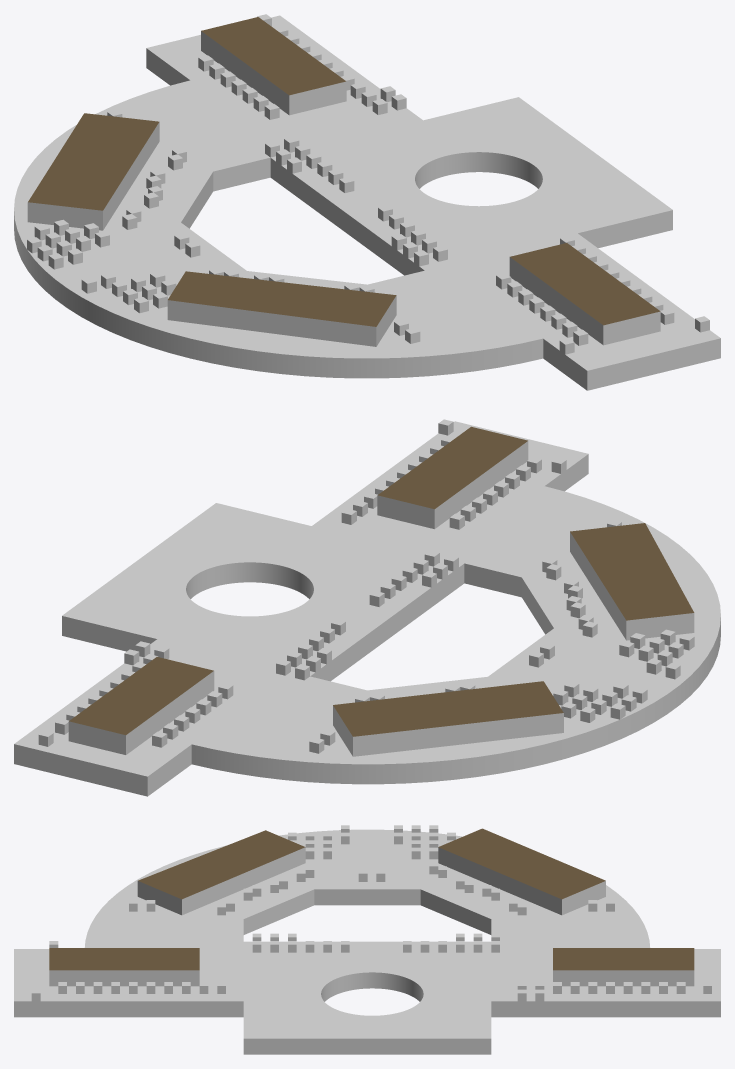
Rendered from pf_four.obj.
The picture shows the model from 3 angles, top to bottom: view 1: azimuth 30°, elevation 25°; view 2: azimuth 150°, elevation 25°; view 3: azimuth 270°, elevation 25°; orthographic projection. The views are drawn at different scales.
Parts seen in each view (by area): view 1: ____27; view 2: ____27; view 3: ____27.
Boxes of the visible parts, <box> form: ____27: <box>14,14,720,390</box>; ____27: <box>14,419,720,796</box>; ____27: <box>14,825,720,1054</box>.
Bounding box in the file's own units: 1.96 × 0.14 × 2.8.
